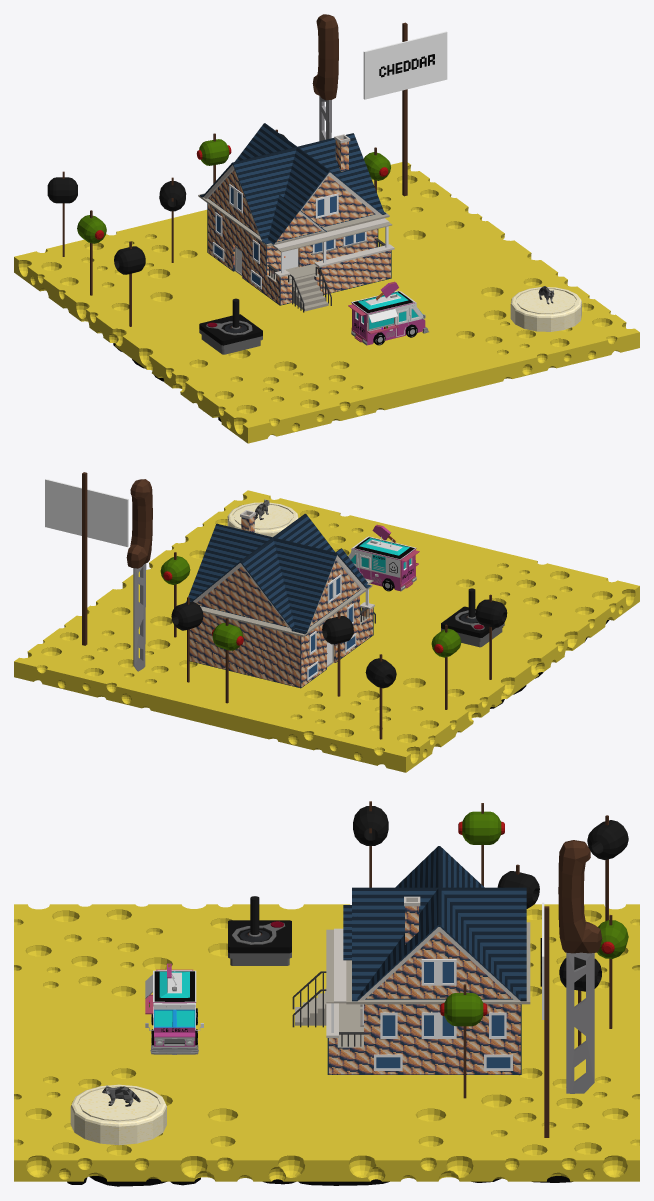
3 views of the same model, one above another, from view 1: azimuth 30°, elevation 25°; view 2: azimuth 150°, elevation 25°; view 3: azimuth 270°, elevation 25° (orthographic). The views are drawn at different scales.
Parts seen in each view (by area): view 1: Cube.022, Cube.430, Cube.023, VEHICLES_ICE_CREAM_TRUCK, Cylinder.016, Cube.024, OBJRANDOM_JOYSTICK, Sphere.017, Sphere.016, Sphere.020, Sphere.018, Sphere.022 (+1 smaller); view 2: Cube.022, Cube.430, Cube.023, Cube.024, VEHICLES_ICE_CREAM_TRUCK, OBJRANDOM_JOYSTICK, Cylinder.016, Sphere.020, Sphere.016, Sphere.022, Sphere.017, Sphere.021 (+2 smaller); view 3: Cube.022, Cube.430, Cube.024, Cylinder.016, VEHICLES_ICE_CREAM_TRUCK, OBJRANDOM_JOYSTICK, Cube.023, Sphere.019, Sphere.016, Sphere.018, Curve.014, Sphere.017 (+3 smaller).
Boxes of the visible parts, left/top/right/bottom form: Cube.022: left=14, top=162, right=639, bottom=443; Cube.430: left=198, top=123, right=394, bottom=312; Cube.023: left=363, top=22, right=447, bottom=196; VEHICLES_ICE_CREAM_TRUCK: left=348, top=281, right=428, bottom=345; Cylinder.016: left=510, top=287, right=581, bottom=331; Cube.024: left=312, top=14, right=338, bottom=141; OBJRANDOM_JOYSTICK: left=199, top=298, right=262, bottom=354; Sphere.017: left=114, top=241, right=145, bottom=326; Sphere.016: left=47, top=171, right=77, bottom=256; Sphere.020: left=159, top=177, right=186, bottom=262; Sphere.018: left=77, top=210, right=106, bottom=295; Sphere.022: left=196, top=133, right=231, bottom=183; Cube.022: left=14, top=490, right=639, bottom=772; Cube.430: left=185, top=510, right=375, bottom=688; Cube.023: left=45, top=472, right=128, bottom=645; Cube.024: left=126, top=479, right=152, bottom=671; VEHICLES_ICE_CREAM_TRUCK: left=348, top=524, right=419, bottom=591; OBJRANDOM_JOYSTICK: left=441, top=588, right=504, bottom=647; Cylinder.016: left=227, top=502, right=298, bottom=537; Sphere.020: left=322, top=611, right=353, bottom=696; Sphere.016: left=365, top=654, right=396, bottom=739; Sphere.022: left=212, top=618, right=243, bottom=703; Sphere.017: left=475, top=594, right=507, bottom=679; Sphere.021: left=171, top=597, right=203, bottom=682; Cube.022: left=14, top=904, right=639, bottom=1181; Cube.430: left=292, top=846, right=530, bottom=1074; Cube.024: left=558, top=840, right=602, bottom=1093; Cylinder.016: left=70, top=1084, right=166, bottom=1145; VEHICLES_ICE_CREAM_TRUCK: left=145, top=963, right=203, bottom=1054; OBJRANDOM_JOYSTICK: left=228, top=896, right=291, bottom=965; Cube.023: left=540, top=902, right=549, bottom=1137; Sphere.019: left=440, top=984, right=487, bottom=1098; Sphere.016: left=587, top=815, right=628, bottom=920; Sphere.018: left=458, top=803, right=504, bottom=886; Curve.014: left=67, top=1176, right=572, bottom=1186; Sphere.017: left=353, top=801, right=388, bottom=887.
Size of the model in its own units: 3917 by 1980 by 4000.
46 materials, 4 textured.
